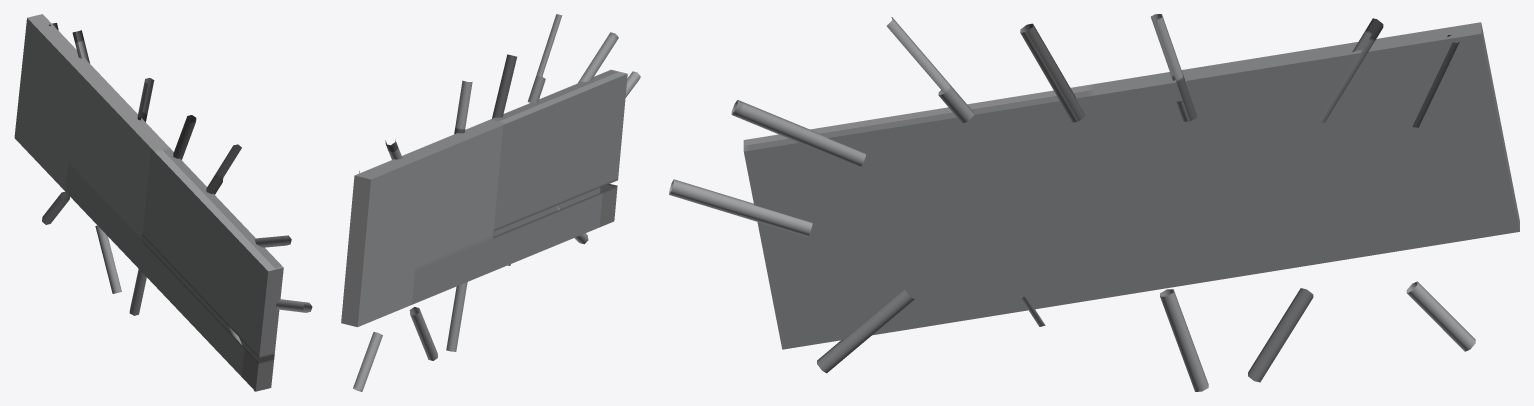
3 views of the same model, side by side, from view 1: azimuth 30°, elevation 25°; view 2: azimuth 150°, elevation 25°; view 3: azimuth 270°, elevation 25° (orthographic). The views are drawn at different scales.
Size of the model in its own units: 0.0488 by 0.5533 by 1.14.
